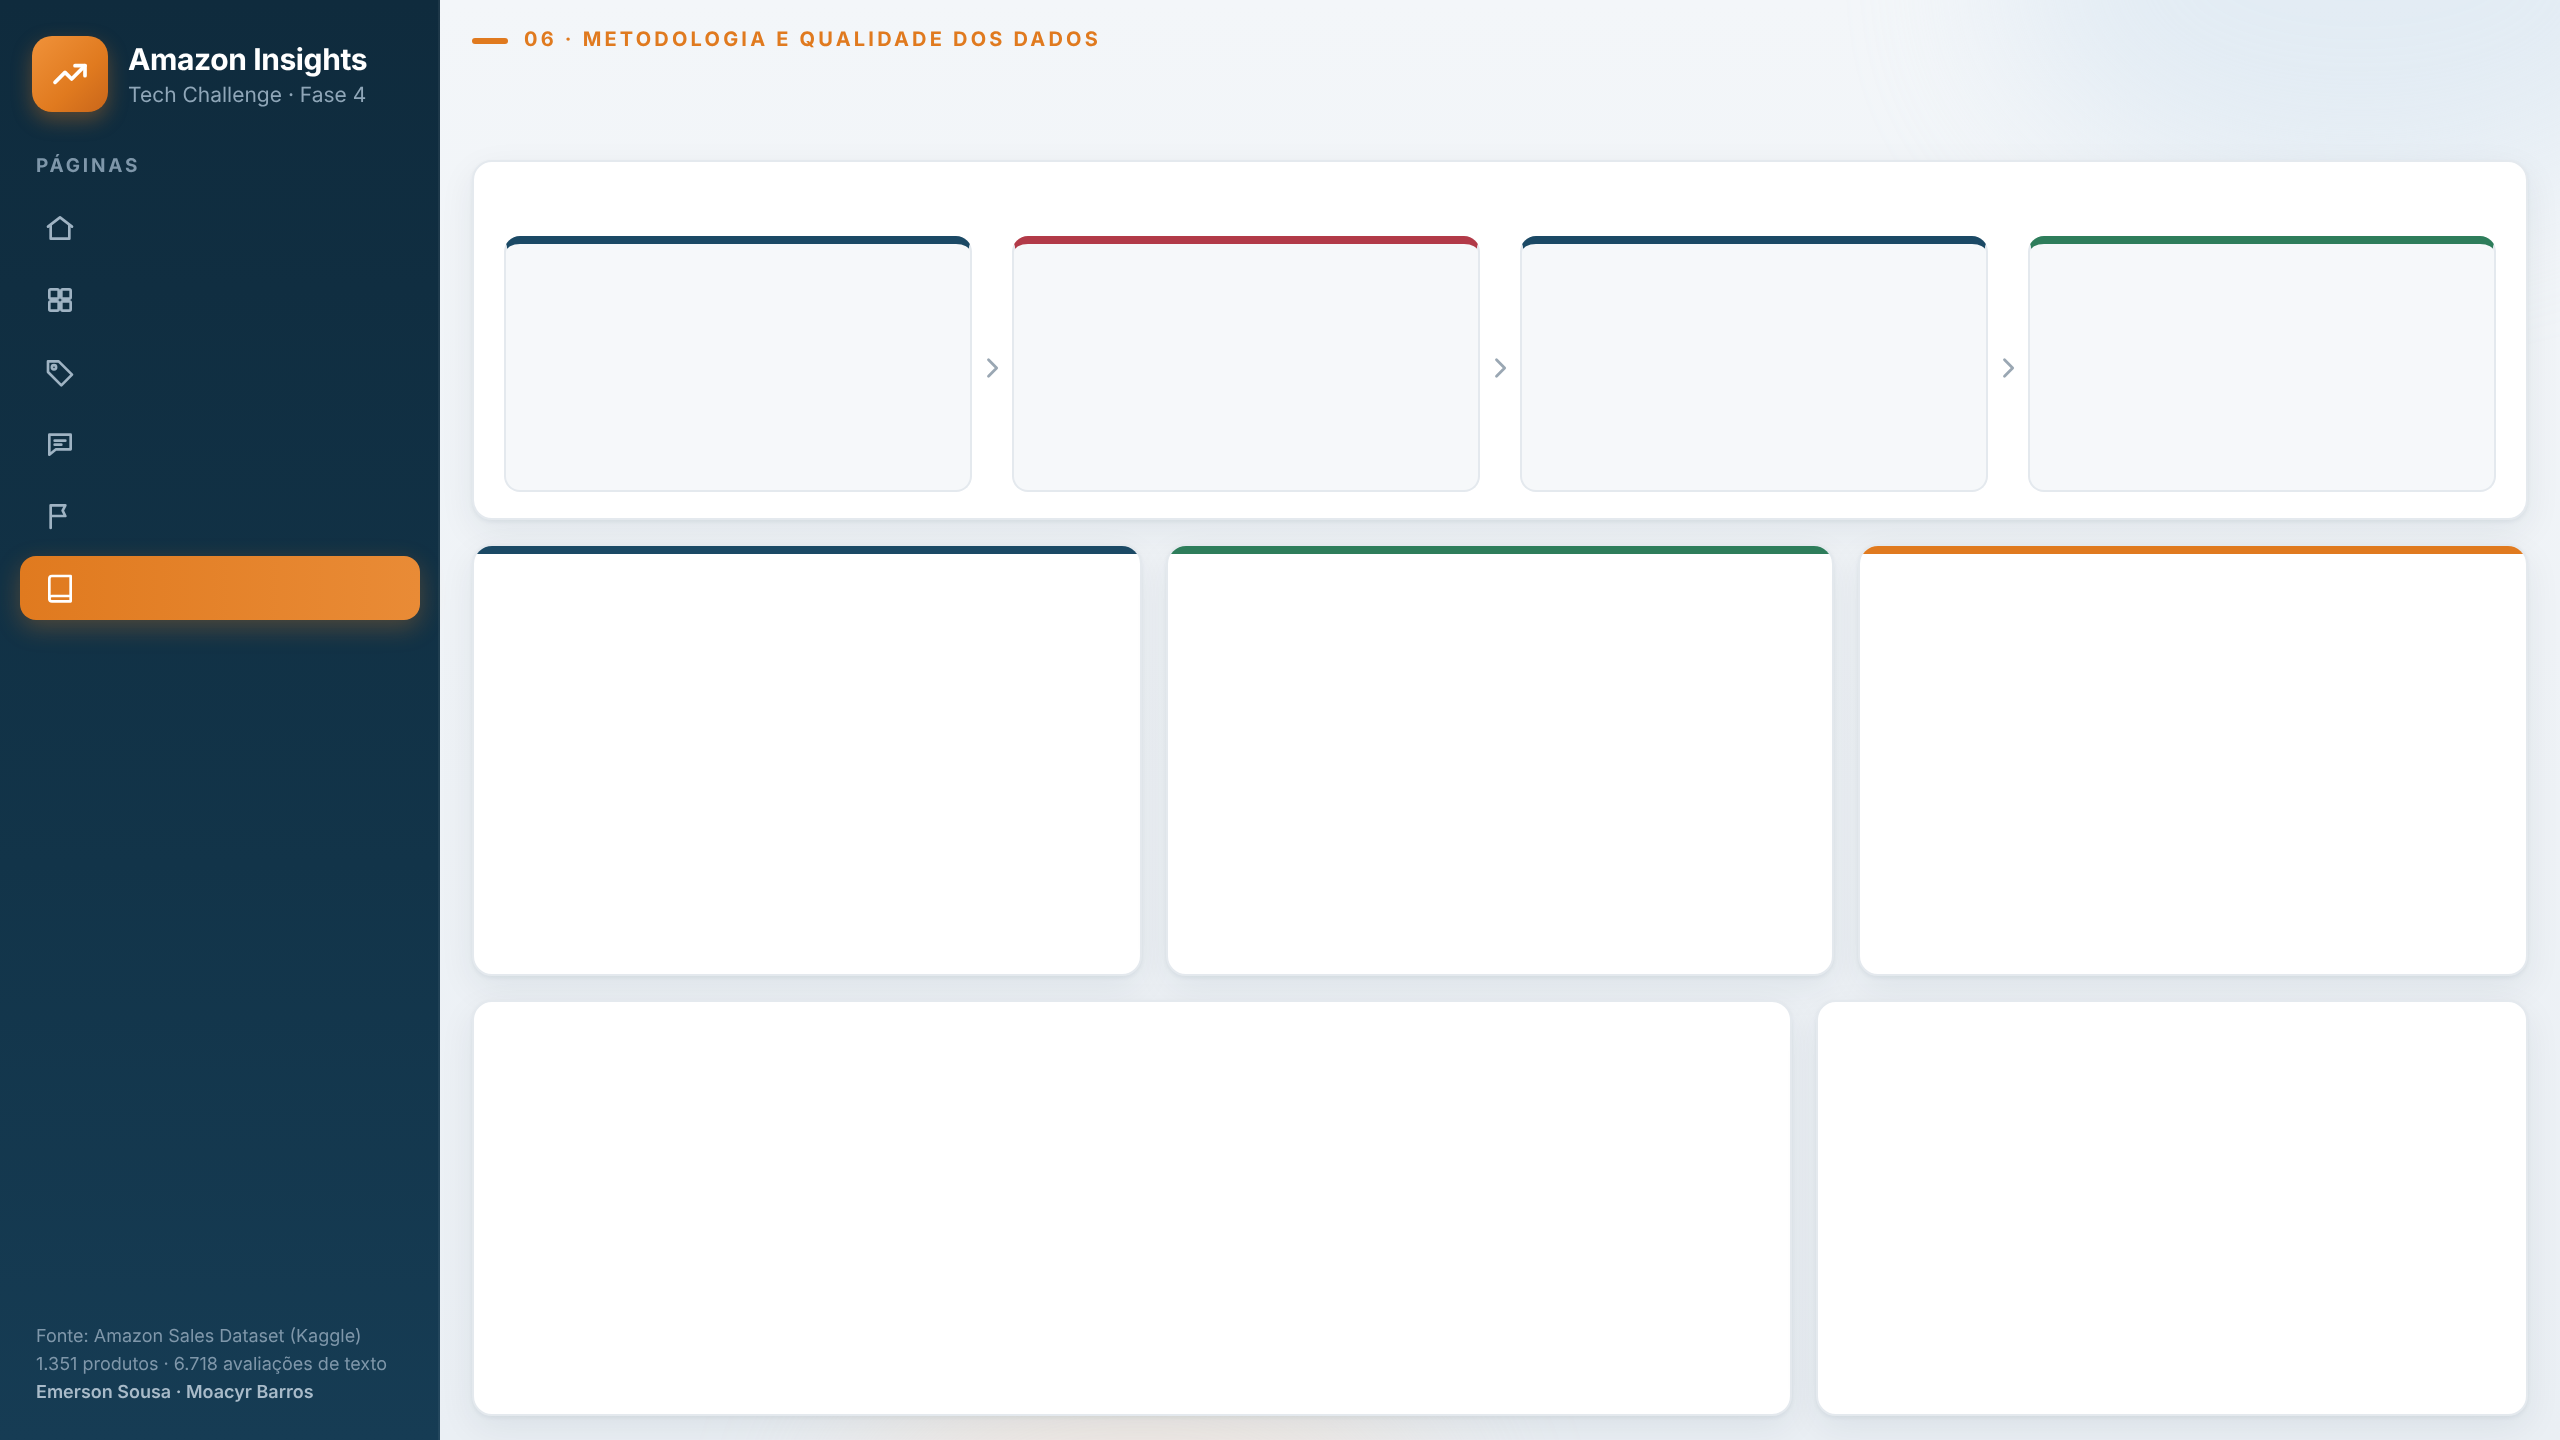

What the dashboard file says about the page in this screenshot:
{"tool":"powerbi","page":{"name":"6. Metodologia e dados","canvas":[1280,720],"ordinal":5},"visuals":[{"type":"textbox","box":[228,26,1044,44],"z":0},{"type":"textbox","box":[244,86,600,30],"z":1000},{"type":"textbox","box":[256,126,226,116],"z":2000},{"type":"textbox","box":[510,126,226,116],"z":3000},{"type":"textbox","box":[764,126,226,116],"z":4000},{"type":"textbox","box":[1018,126,226,116],"z":5000},{"type":"textbox","box":[242,282,322.7,202],"z":6000},{"type":"textbox","box":[588.7,282,322.7,202],"z":7000},{"type":"textbox","box":[935.3,282,322.7,202],"z":8000},{"type":"textbox","box":[242,508,648,196],"z":9000},{"type":"textbox","box":[914,508,344,196],"z":10000},{"type":"actionButton","box":[44,98,166,32],"z":11000},{"type":"actionButton","box":[44,134,166,32],"z":12000},{"type":"actionButton","box":[44,170,166,32],"z":13000},{"type":"actionButton","box":[44,206,166,32],"z":14000},{"type":"actionButton","box":[44,242,166,32],"z":15000},{"type":"actionButton","box":[44,278,166,32],"z":16000}]}

Visuals, with their boxes on the page's 1280x720 design canvas (x1, y1, x2, y2). These are canvas units, not pixel positions in the 2560x1440 screenshot, which may show the page scaled, cropped or inside an application window:
textbox: l=228, t=26, r=1272, b=70
textbox: l=244, t=86, r=844, b=116
textbox: l=256, t=126, r=482, b=242
textbox: l=510, t=126, r=736, b=242
textbox: l=764, t=126, r=990, b=242
textbox: l=1018, t=126, r=1244, b=242
textbox: l=242, t=282, r=565, b=484
textbox: l=589, t=282, r=911, b=484
textbox: l=935, t=282, r=1258, b=484
textbox: l=242, t=508, r=890, b=704
textbox: l=914, t=508, r=1258, b=704
actionButton: l=44, t=98, r=210, b=130
actionButton: l=44, t=134, r=210, b=166
actionButton: l=44, t=170, r=210, b=202
actionButton: l=44, t=206, r=210, b=238
actionButton: l=44, t=242, r=210, b=274
actionButton: l=44, t=278, r=210, b=310
